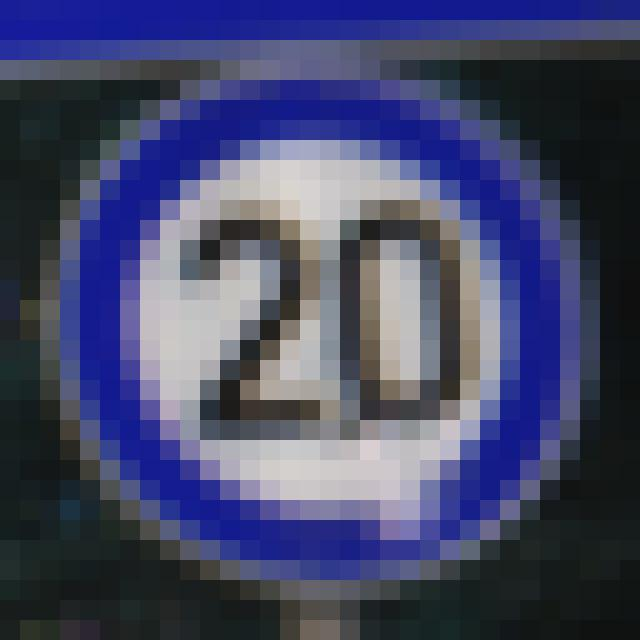SPEED LIMIT 20: (57, 61, 616, 591)
